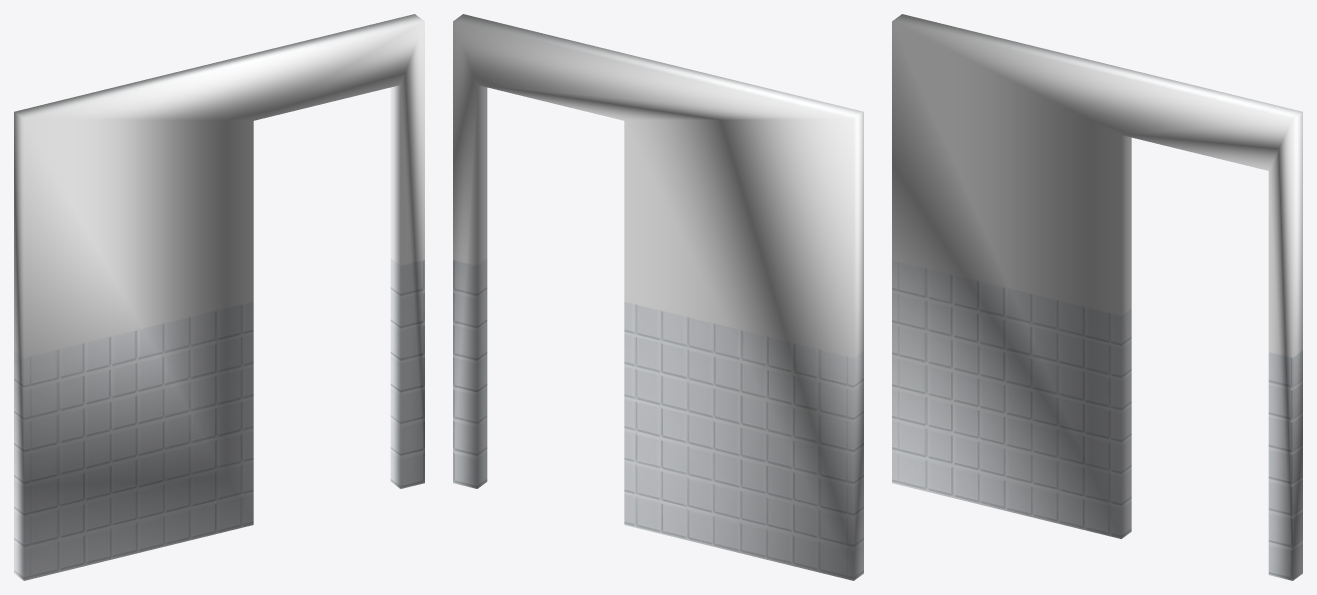
The model's file is PAREDE DO MEC.fbx.
The picture shows the model from 3 angles, left to right: view 1: azimuth 30°, elevation 25°; view 2: azimuth 150°, elevation 25°; view 3: azimuth 330°, elevation 25°; orthographic projection.
Parts seen in each view (by area): view 1: corredor T 01.002; view 2: corredor T 01.002; view 3: corredor T 01.002.
Boxes of the visible parts, x1,y1,x2,y2 form: corredor T 01.002: (14, 14, 424, 580); corredor T 01.002: (453, 14, 863, 580); corredor T 01.002: (892, 14, 1302, 580).
Size of the model in its own units: 2.18 by 2.4 by 0.095.
1 material, 1 textured.
